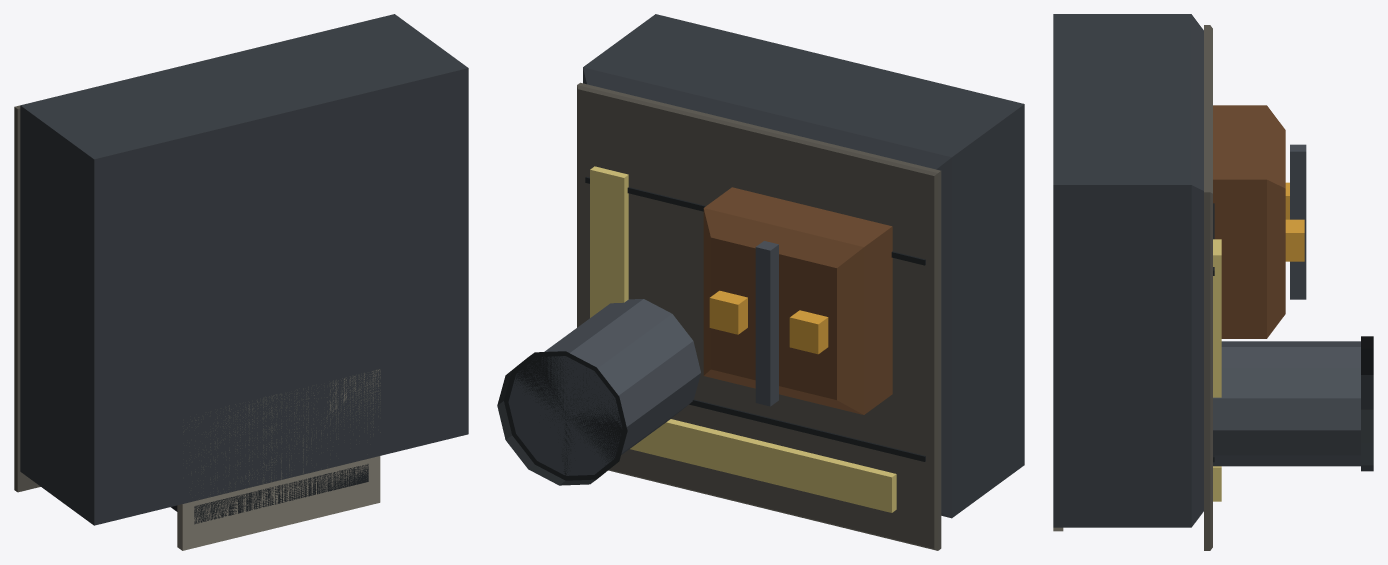
Rendered from refinery.glb.
The picture shows the model from 3 angles, left to right: view 1: azimuth 30°, elevation 25°; view 2: azimuth 150°, elevation 25°; view 3: azimuth 270°, elevation 25°; orthographic projection. The views are drawn at different scales.
Visible parts, largest first — view 1: Body; view 2: Body; view 3: Body.
Boxes of the visible parts, x1,y1,x2,y2 form: Body: [14, 14, 468, 550]; Body: [497, 14, 1024, 550]; Body: [1053, 14, 1373, 550].
Bounding box in the file's own units: 6.44 × 6.79 × 5.1.
